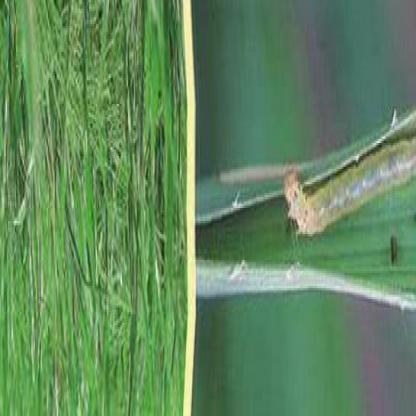leaf-folder: (278, 141, 406, 330)
